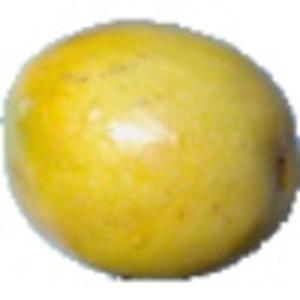maracujá: (1, 19, 300, 286)
